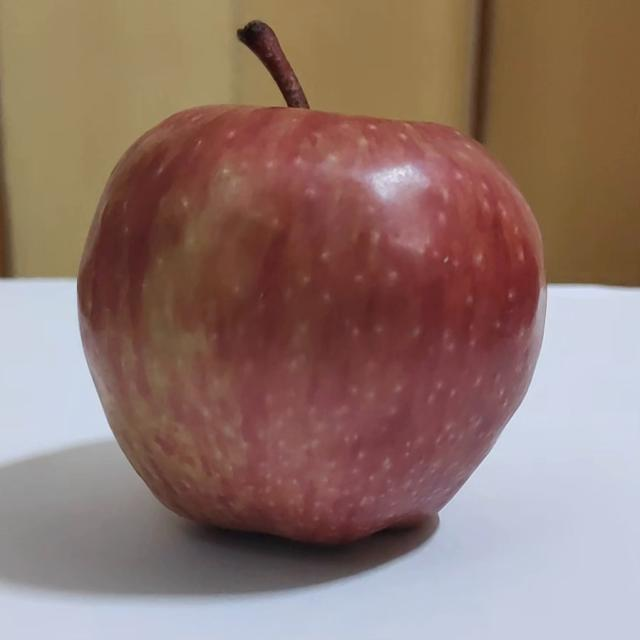apple: (71, 19, 552, 548)
